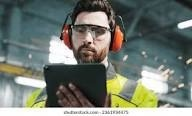safety_goggles: (65, 24, 115, 39)
